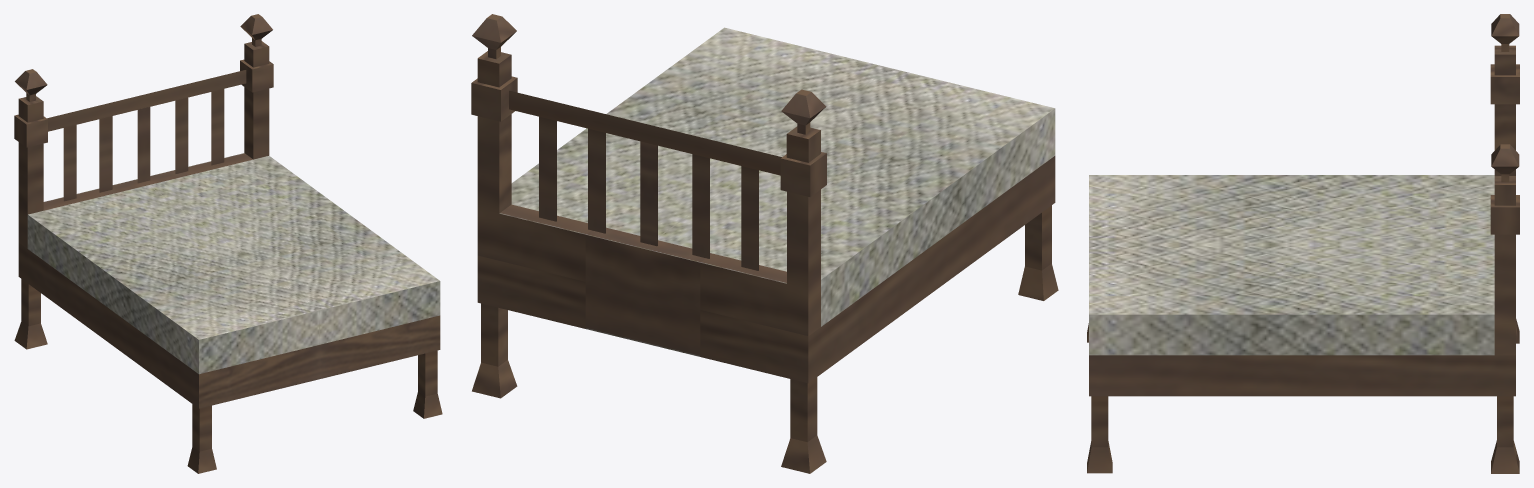
Rendered from LitDouble.fbx.
The picture shows the model from 3 angles, left to right: view 1: azimuth 30°, elevation 25°; view 2: azimuth 150°, elevation 25°; view 3: azimuth 270°, elevation 25°; orthographic projection. The views are drawn at different scales.
Parts seen in each view (by area): view 1: Cube; view 2: Cube; view 3: Cube.
Part boxes in pixels (box(x1,y1,x2,y2)): Cube: box(14, 14, 442, 473); Cube: box(471, 14, 1058, 473); Cube: box(1087, 14, 1519, 473).
Bounding box in the file's own units: 751 × 788 × 962.
